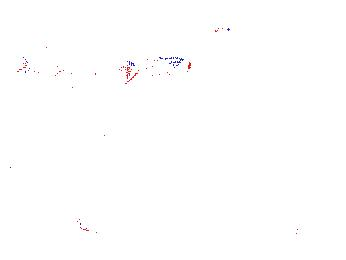red belly glassfish: (202, 23, 232, 36)
redtail glassfish: (124, 55, 191, 82), (18, 55, 75, 83), (50, 58, 108, 78)
siberian prawn: (24, 215, 96, 244)
